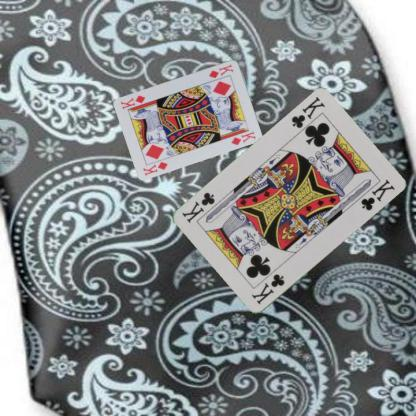Kc: (288, 94, 326, 130), (248, 272, 286, 306)
Kd: (206, 61, 235, 79), (140, 159, 169, 177)
